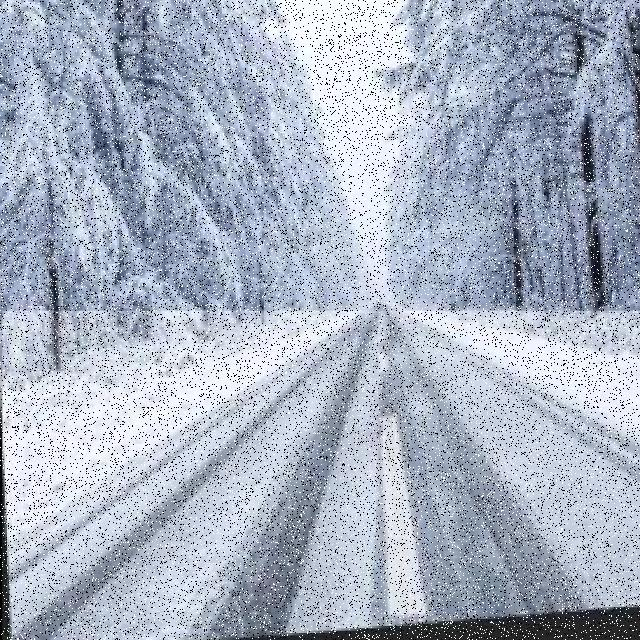ice-road: (3, 312, 640, 640)
